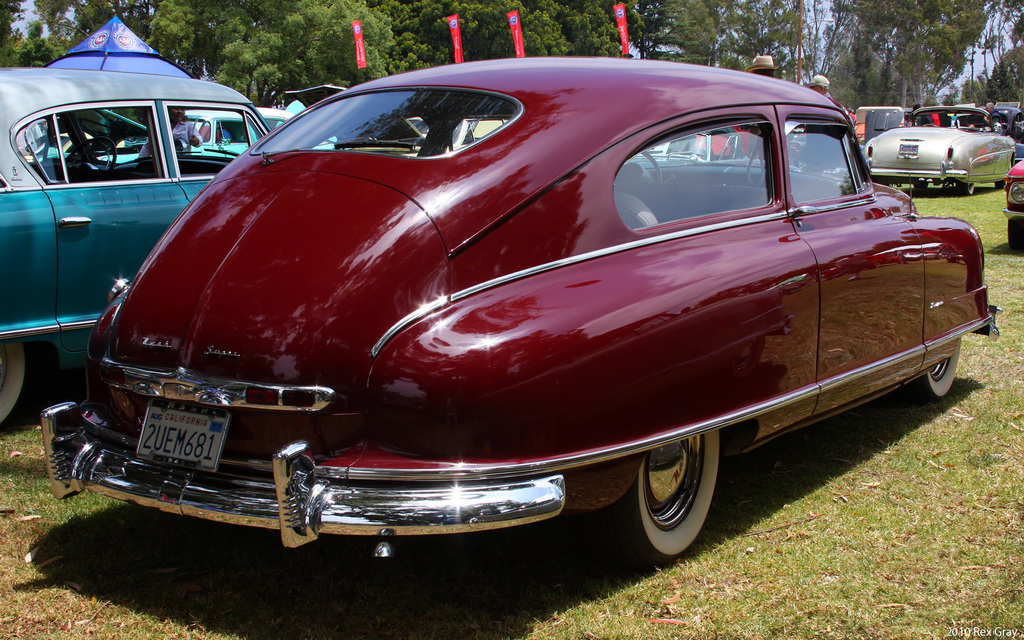Car: (0, 62, 1023, 579)
